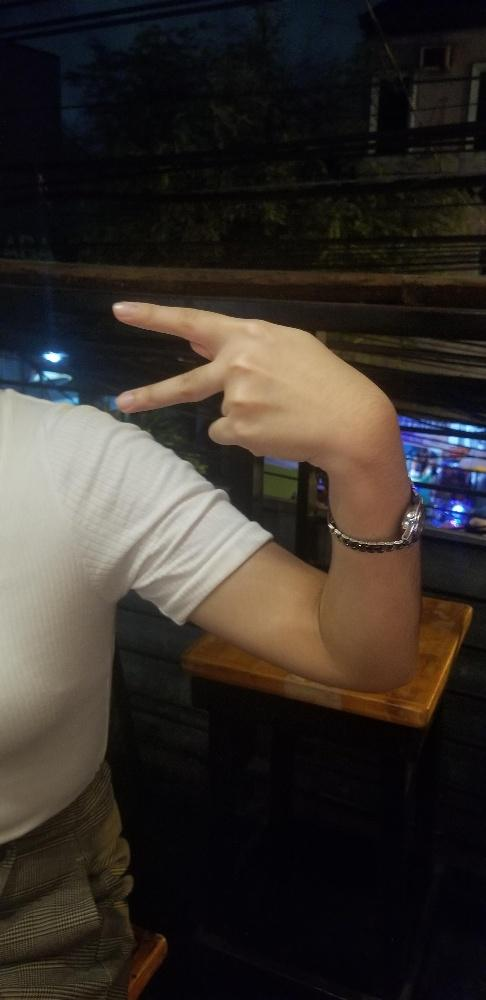k: (110, 299, 359, 462)
